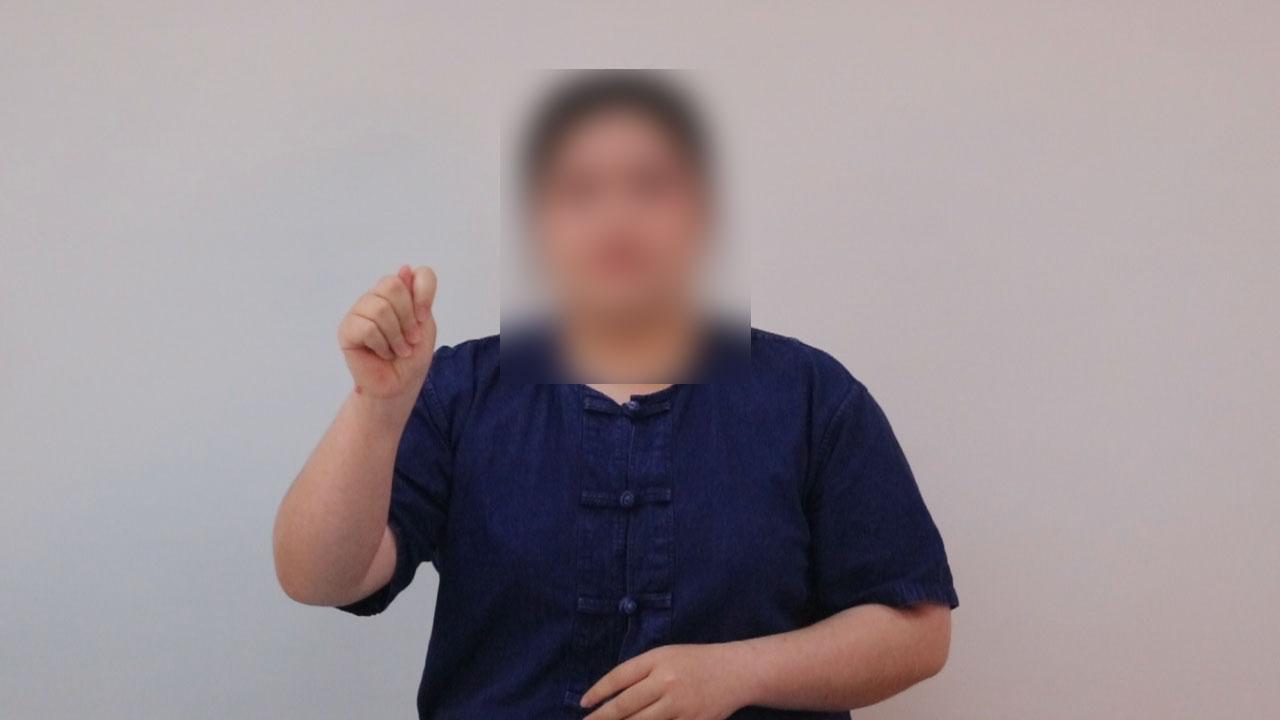tor: (318, 246, 479, 421)
